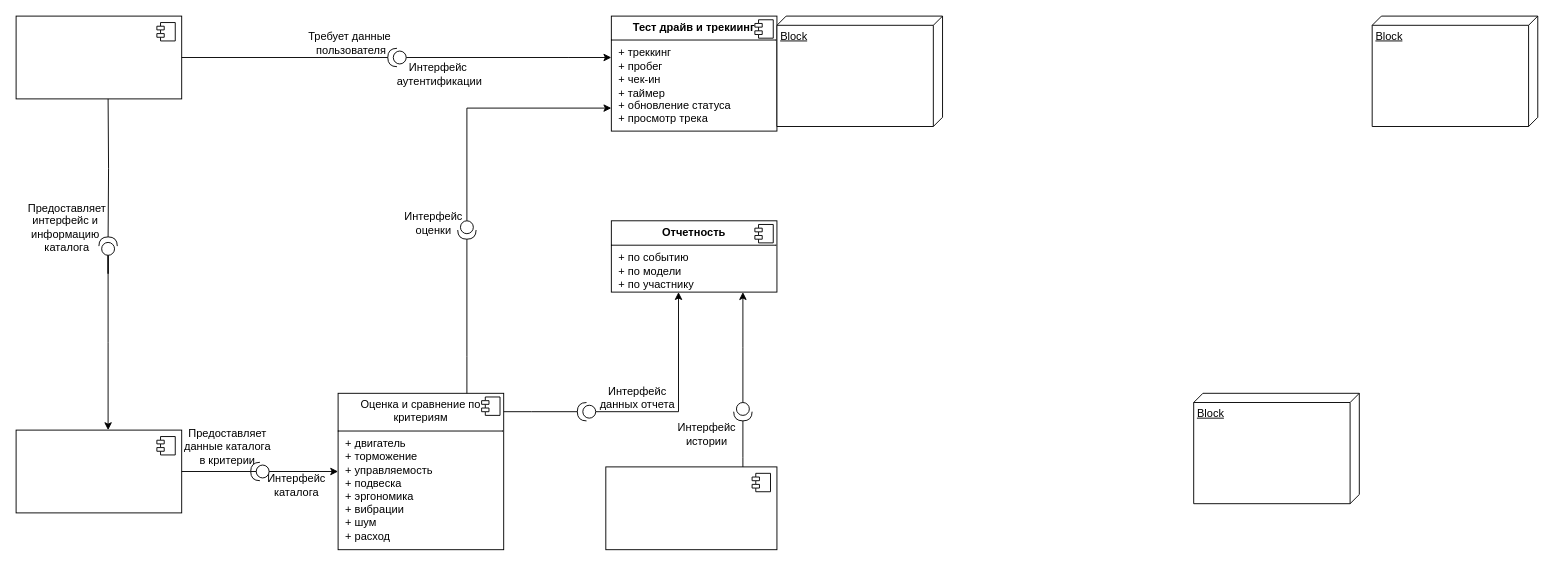
Image size: 1554x566. Some labels were removed from this diagram. The centre of each missing label's shape, as x and y in pixels:
"Аутентификация и управление пользователями" goes at (x=98, y=57).
"История и журналирование" goes at (x=691, y=508).
"Каталог мотоциклов и фильтрации" goes at (x=98, y=471).
